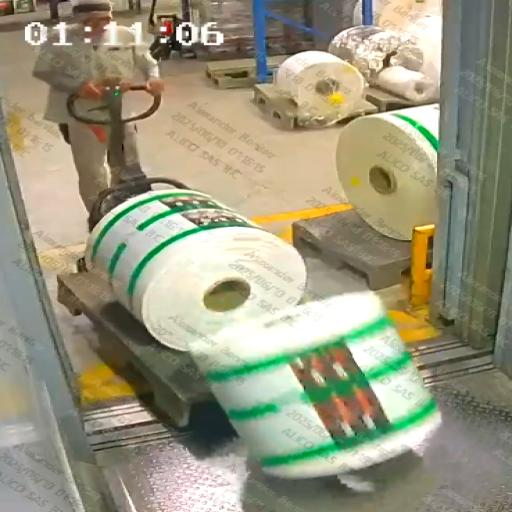rollos caidos: (56, 198, 446, 498)
